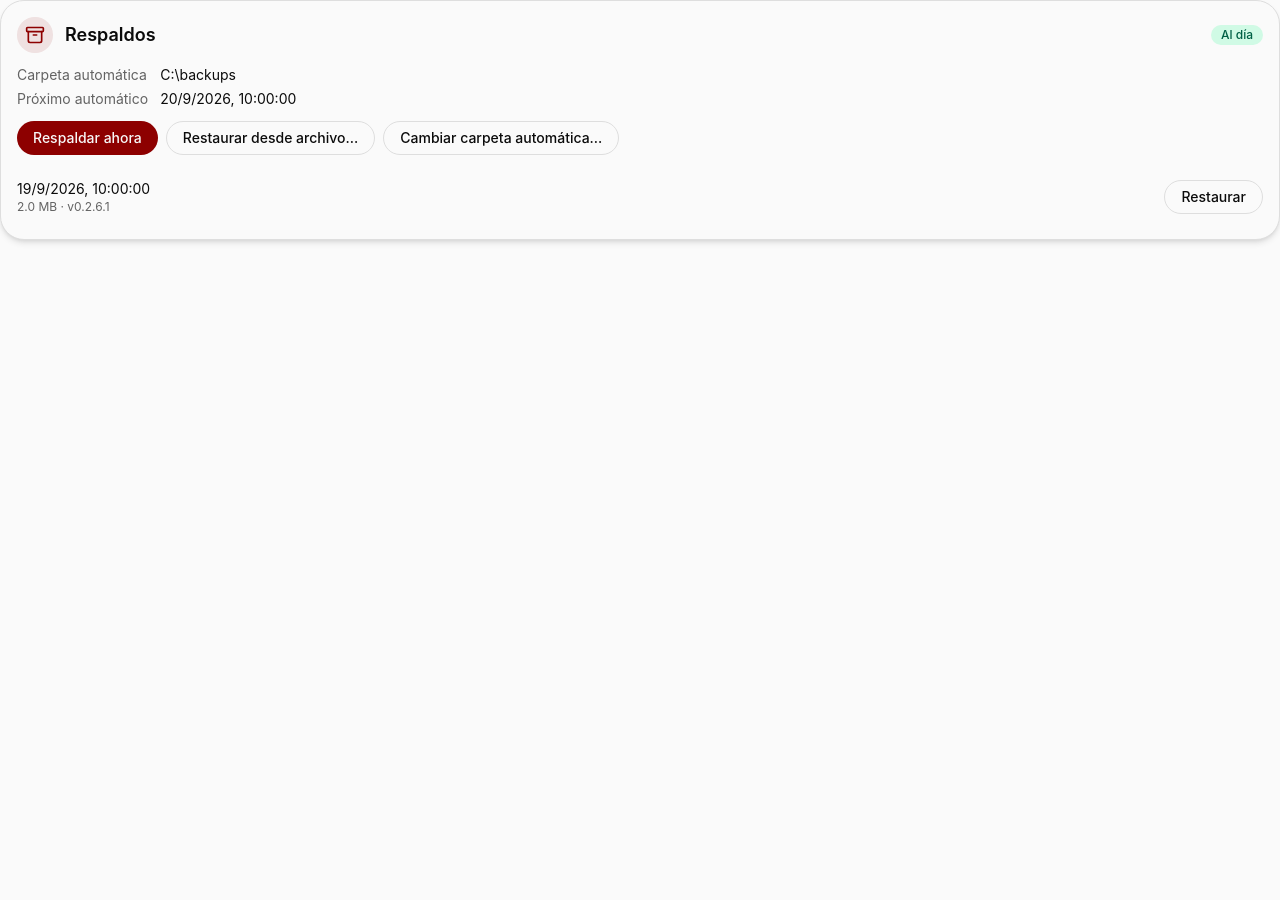
Test case: BackupCard › shows the backend error when a backup fails
Check: the text "C:\\backups" is shown, box [160,66,236,83]
Click the button "Respaldar ahora" at x=87, y=138, box [17,121,158,155]
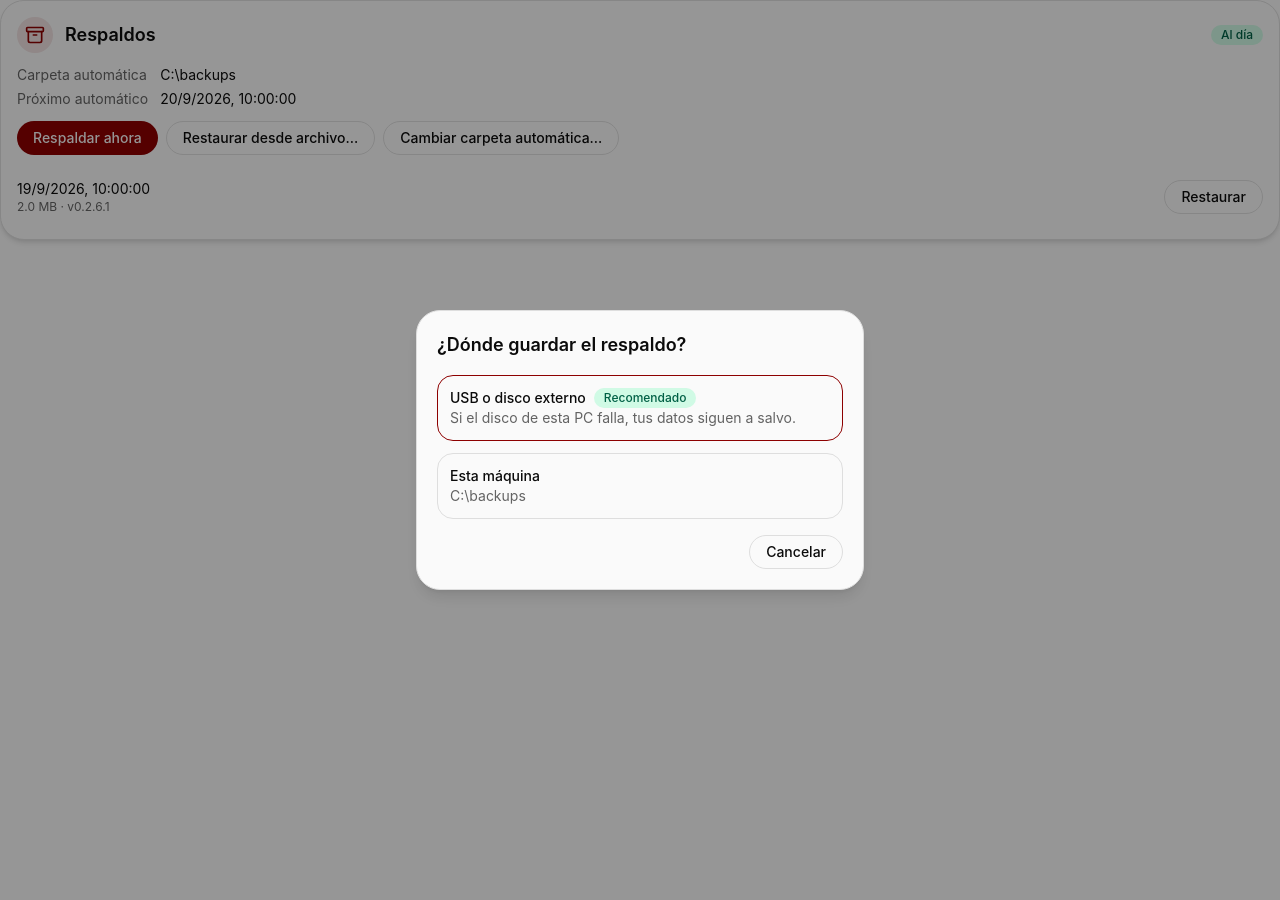
Click the button "Esta máquina C:\\backups" at x=495, y=476, box [437,453,843,519]
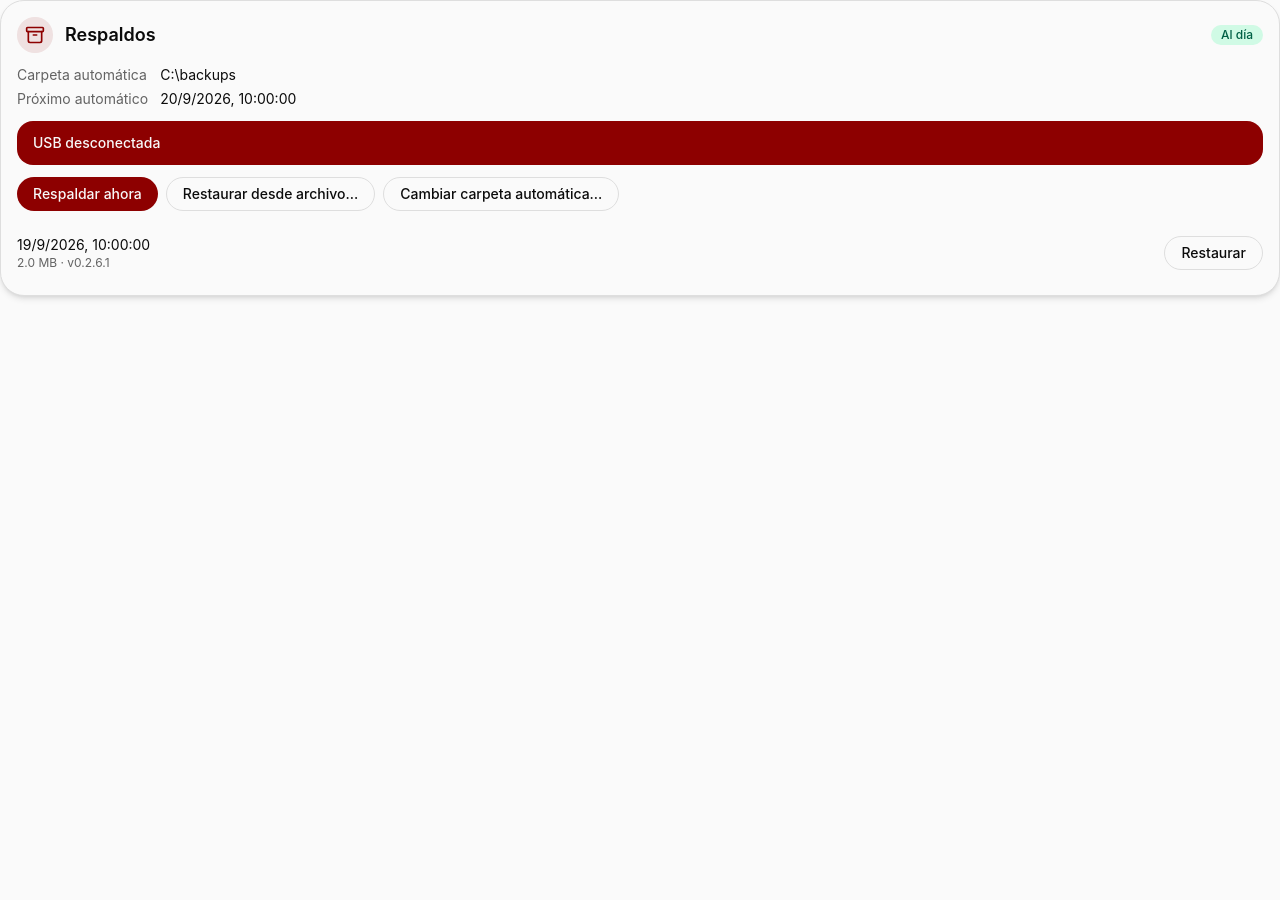
Check: the text "USB desconectada" is shown, box [17,121,1263,165]
